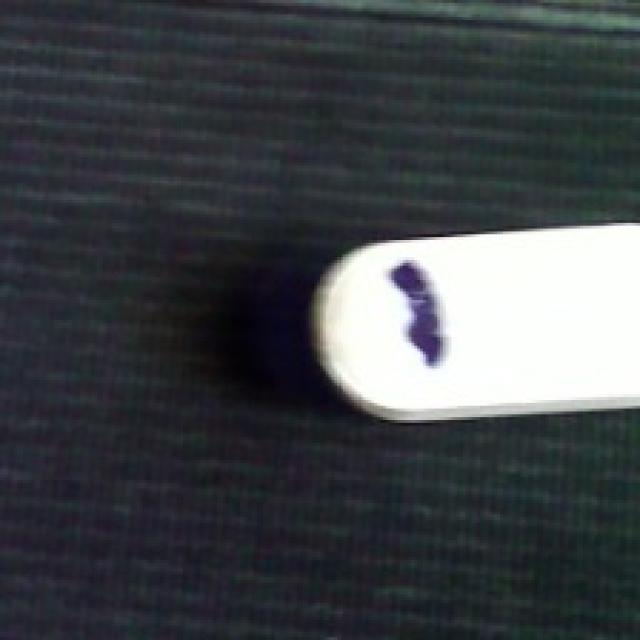defected: (303, 223, 637, 428)
